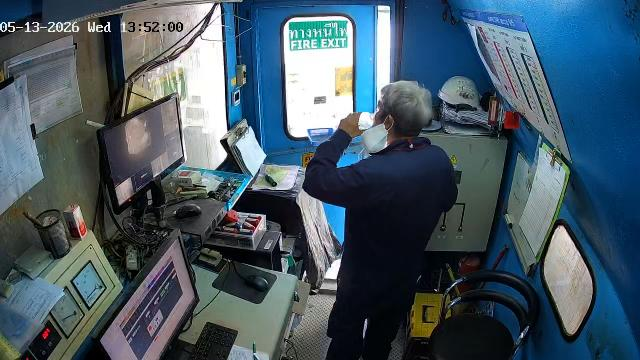Head: (374, 81, 432, 143)
People: (303, 81, 457, 359)
